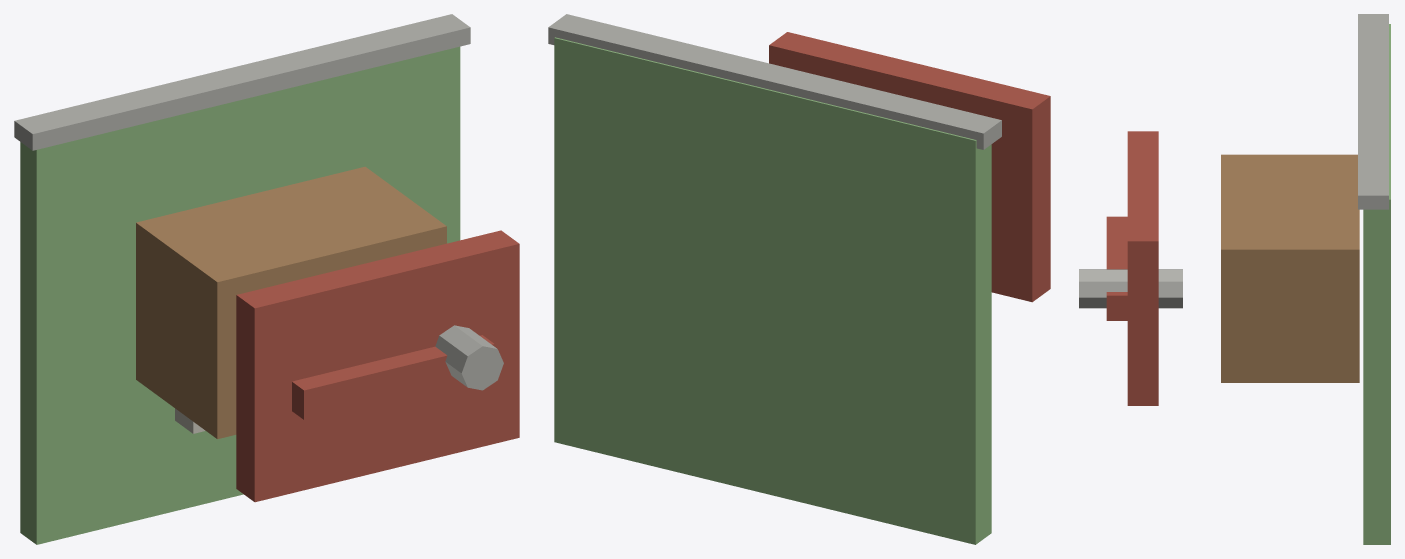
Rendered from 14_LoLuyen.glb.
3 views of the same model, side by side, from view 1: azimuth 30°, elevation 25°; view 2: azimuth 150°, elevation 25°; view 3: azimuth 270°, elevation 25° (orthographic). The views are drawn at different scales.
Visible parts, largest first — view 1: base, roof, forgehouse, edge, ridge, chimney; view 2: base, roof, edge; view 3: forgehouse, base, roof, edge, chimney, ridge.
Part boxes in pixels (x1,y1,x2,y2): base: (20, 46, 460, 544); roof: (236, 230, 519, 502); forgehouse: (136, 166, 446, 439); edge: (14, 14, 470, 150); ridge: (292, 335, 494, 419); chimney: (435, 325, 503, 390); base: (554, 37, 991, 544); roof: (769, 32, 1050, 302); edge: (548, 14, 1001, 149); forgehouse: (1221, 154, 1359, 382); base: (1363, 24, 1390, 544); roof: (1127, 131, 1158, 405); edge: (1358, 14, 1388, 209); chimney: (1079, 269, 1182, 308); ridge: (1106, 216, 1127, 320).
Size of the model in its own units: 2.48 by 2.25 by 1.8.
